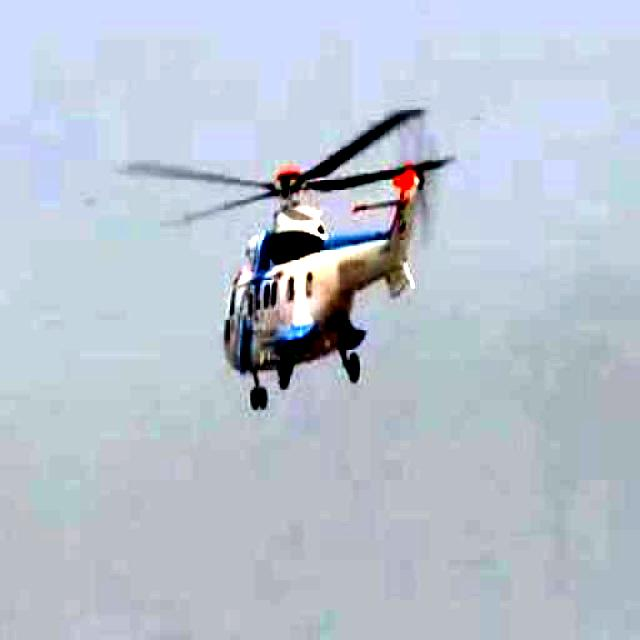drone: (95, 88, 511, 421)
